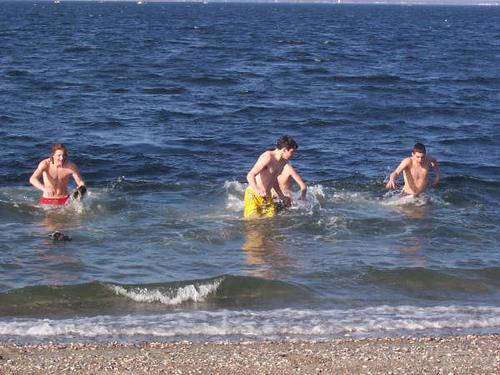swimmer: (243, 136, 302, 222), (30, 142, 84, 210), (388, 141, 439, 199)
